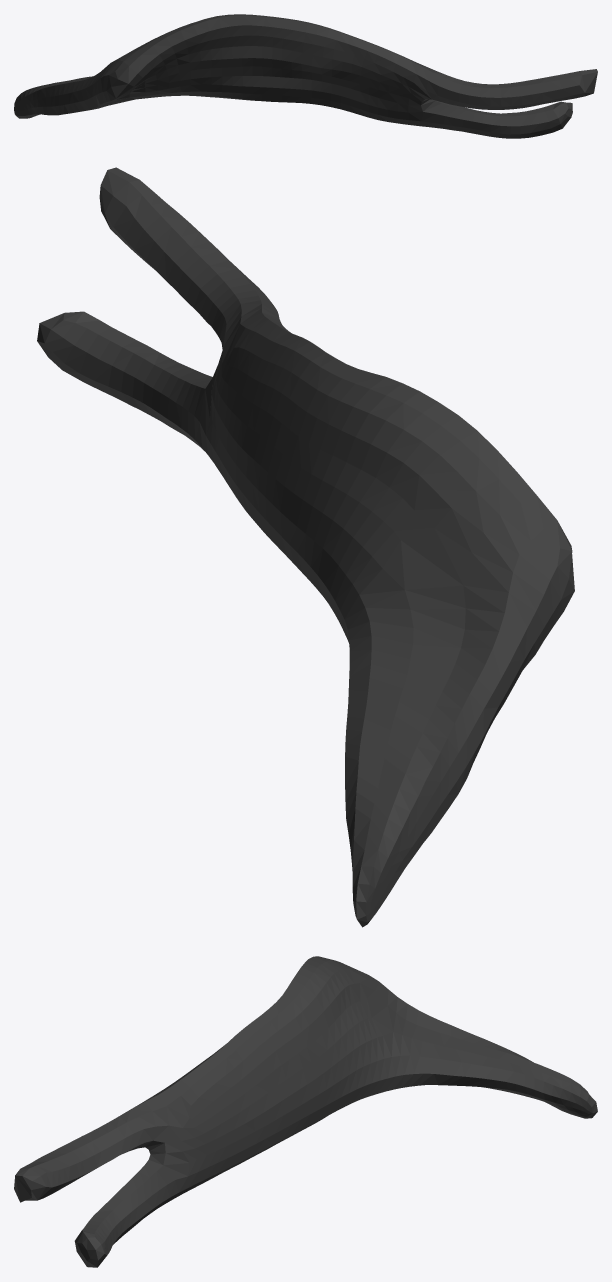
Rendered from cervicoauric_sup.glb.
3 views of the same model, one above another, from view 1: azimuth 30°, elevation 25°; view 2: azimuth 150°, elevation 25°; view 3: azimuth 270°, elevation 25° (orthographic). The views are drawn at different scales.
Visible parts, largest first — view 1: cervicoauric_sup; view 2: cervicoauric_sup; view 3: cervicoauric_sup.
Part boxes in pixels (box(x1,y1,x2,y2)): cervicoauric_sup: box(14, 14, 597, 138); cervicoauric_sup: box(37, 167, 574, 927); cervicoauric_sup: box(14, 956, 597, 1267).
Size of the model in its own units: 0.7823 by 0.3351 by 0.8641.
Materials: 1 (1 with a texture image).
